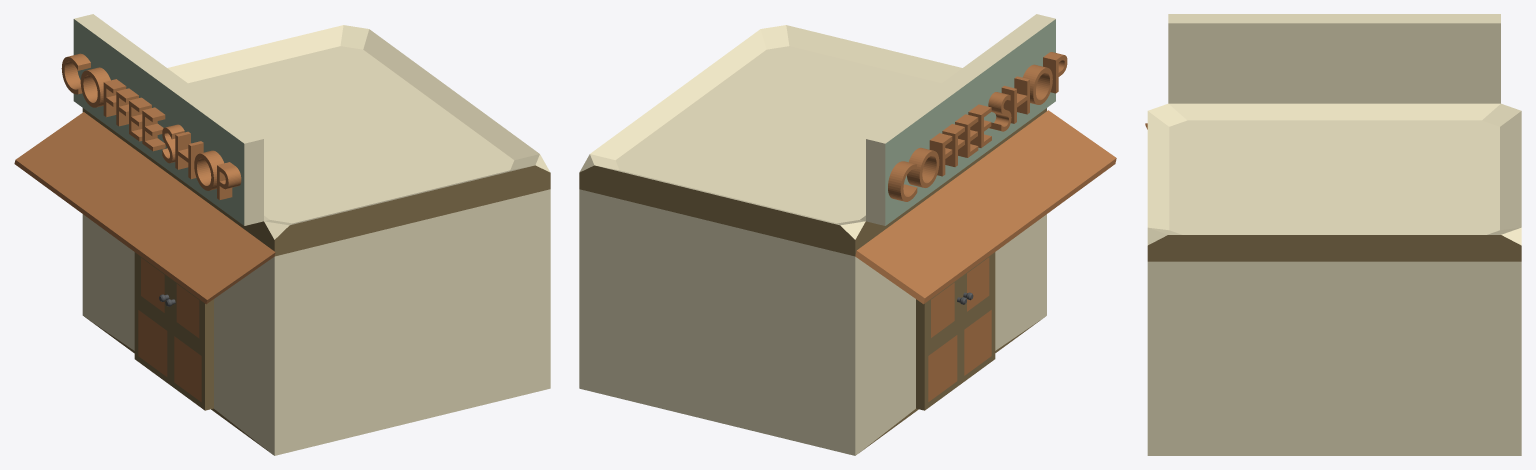
File: coffeeshop.fbx
3 renders of one model, left to right at view 1: azimuth 30°, elevation 25°; view 2: azimuth 150°, elevation 25°; view 3: azimuth 270°, elevation 25°, orthographic. The views are drawn at different scales.
Parts seen in each view (by area): view 1: Cube; view 2: Cube; view 3: Cube.
Part boxes in pixels (x1,y1,x2,y2): Cube: (14, 14, 550, 455); Cube: (579, 14, 1116, 455); Cube: (1145, 14, 1521, 455).
Bounding box in the file's own units: 2189 × 1879 × 2125.
